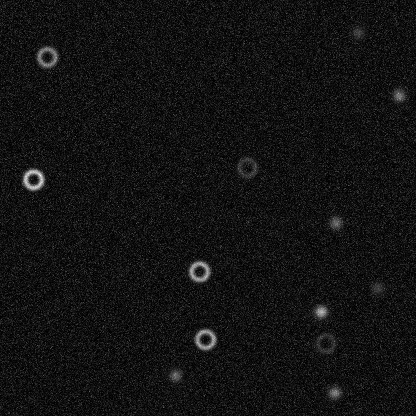Ring: (193, 327, 217, 351), (313, 331, 337, 355), (21, 167, 45, 191), (235, 155, 259, 179), (35, 44, 59, 68), (187, 259, 211, 283)
Spot: (349, 24, 365, 40), (167, 367, 183, 383), (312, 303, 328, 319), (369, 280, 385, 296), (327, 214, 343, 230), (326, 384, 342, 400), (390, 87, 406, 103)
